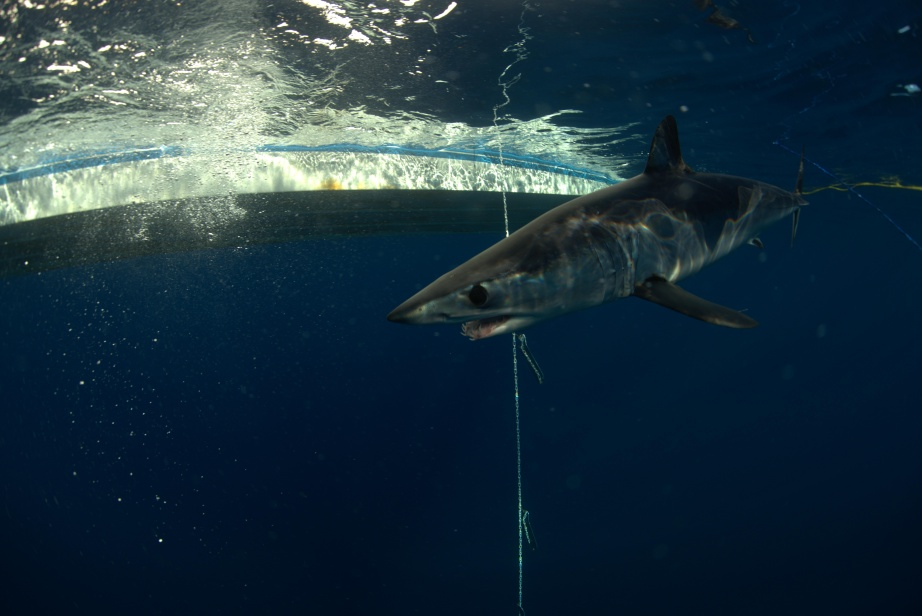Mako: (378, 108, 825, 372)
